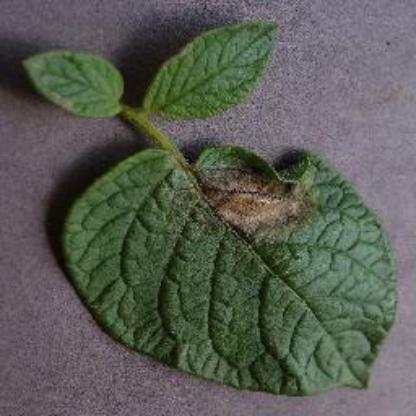Late-Blight: (12, 13, 400, 399)
